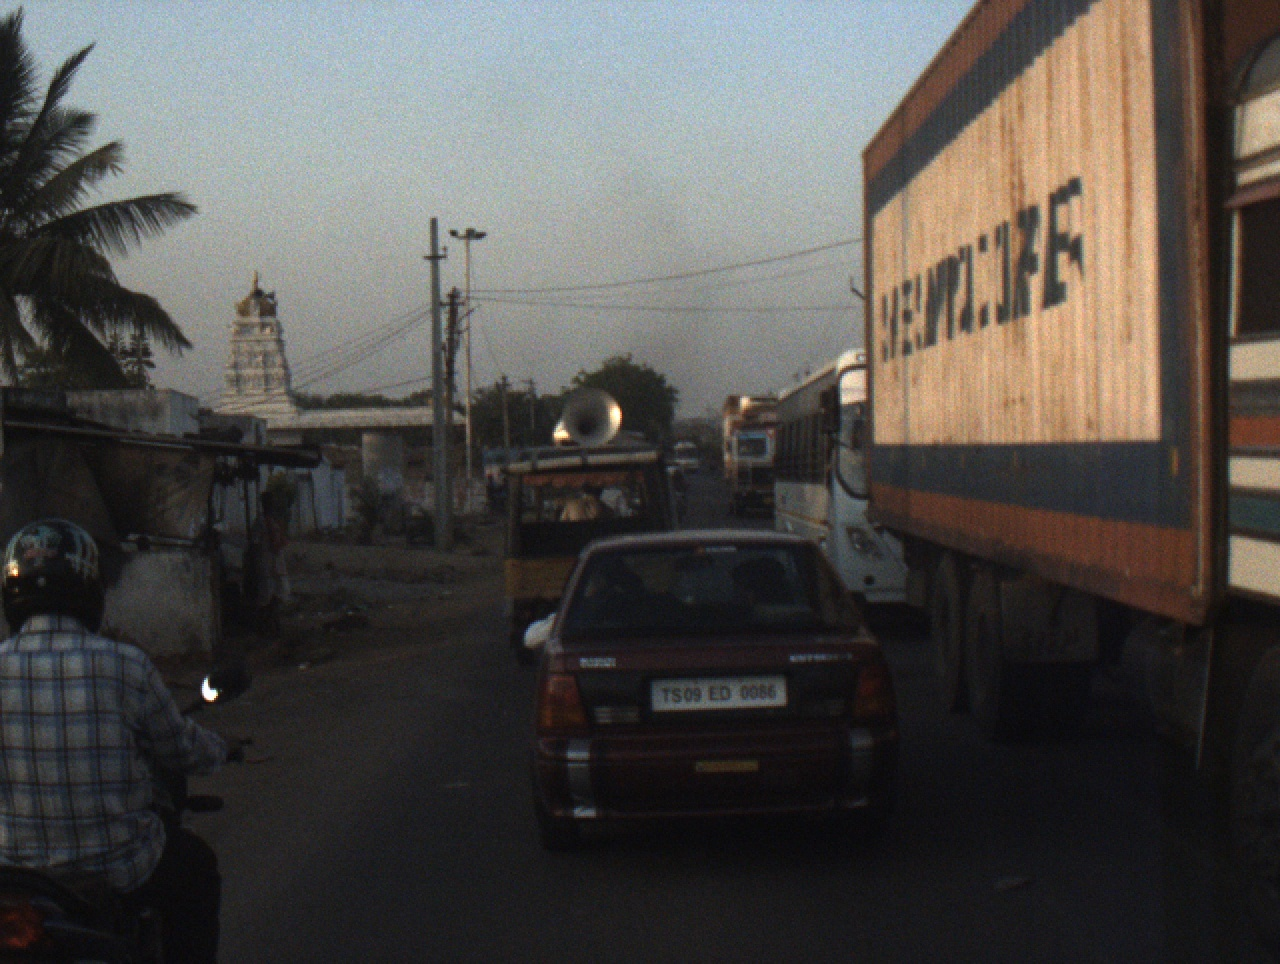autorickshaw: (499, 384, 686, 666)
bus: (762, 344, 926, 622), (671, 436, 702, 475)
car: (517, 515, 907, 859)
motorcycle: (4, 645, 243, 960), (670, 490, 688, 523)
person: (246, 487, 295, 643), (483, 472, 501, 508)
rider: (6, 511, 234, 956), (665, 455, 689, 492)
truck: (845, 1, 1279, 890), (715, 391, 784, 517)
